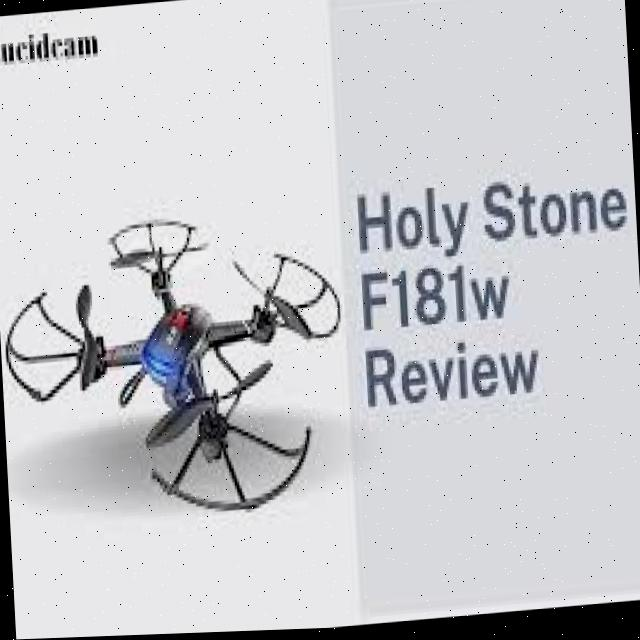drone: (0, 195, 349, 535)
